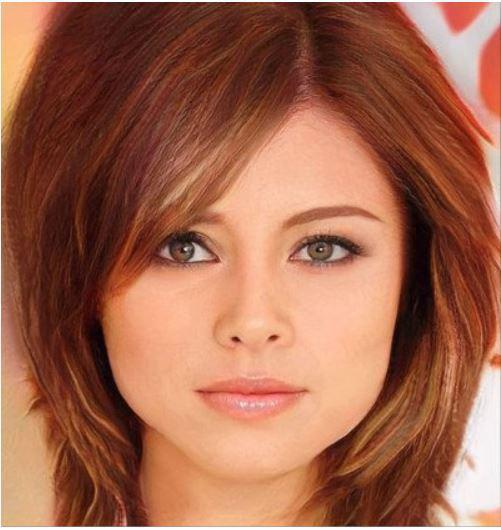Sober: (102, 118, 379, 438)
